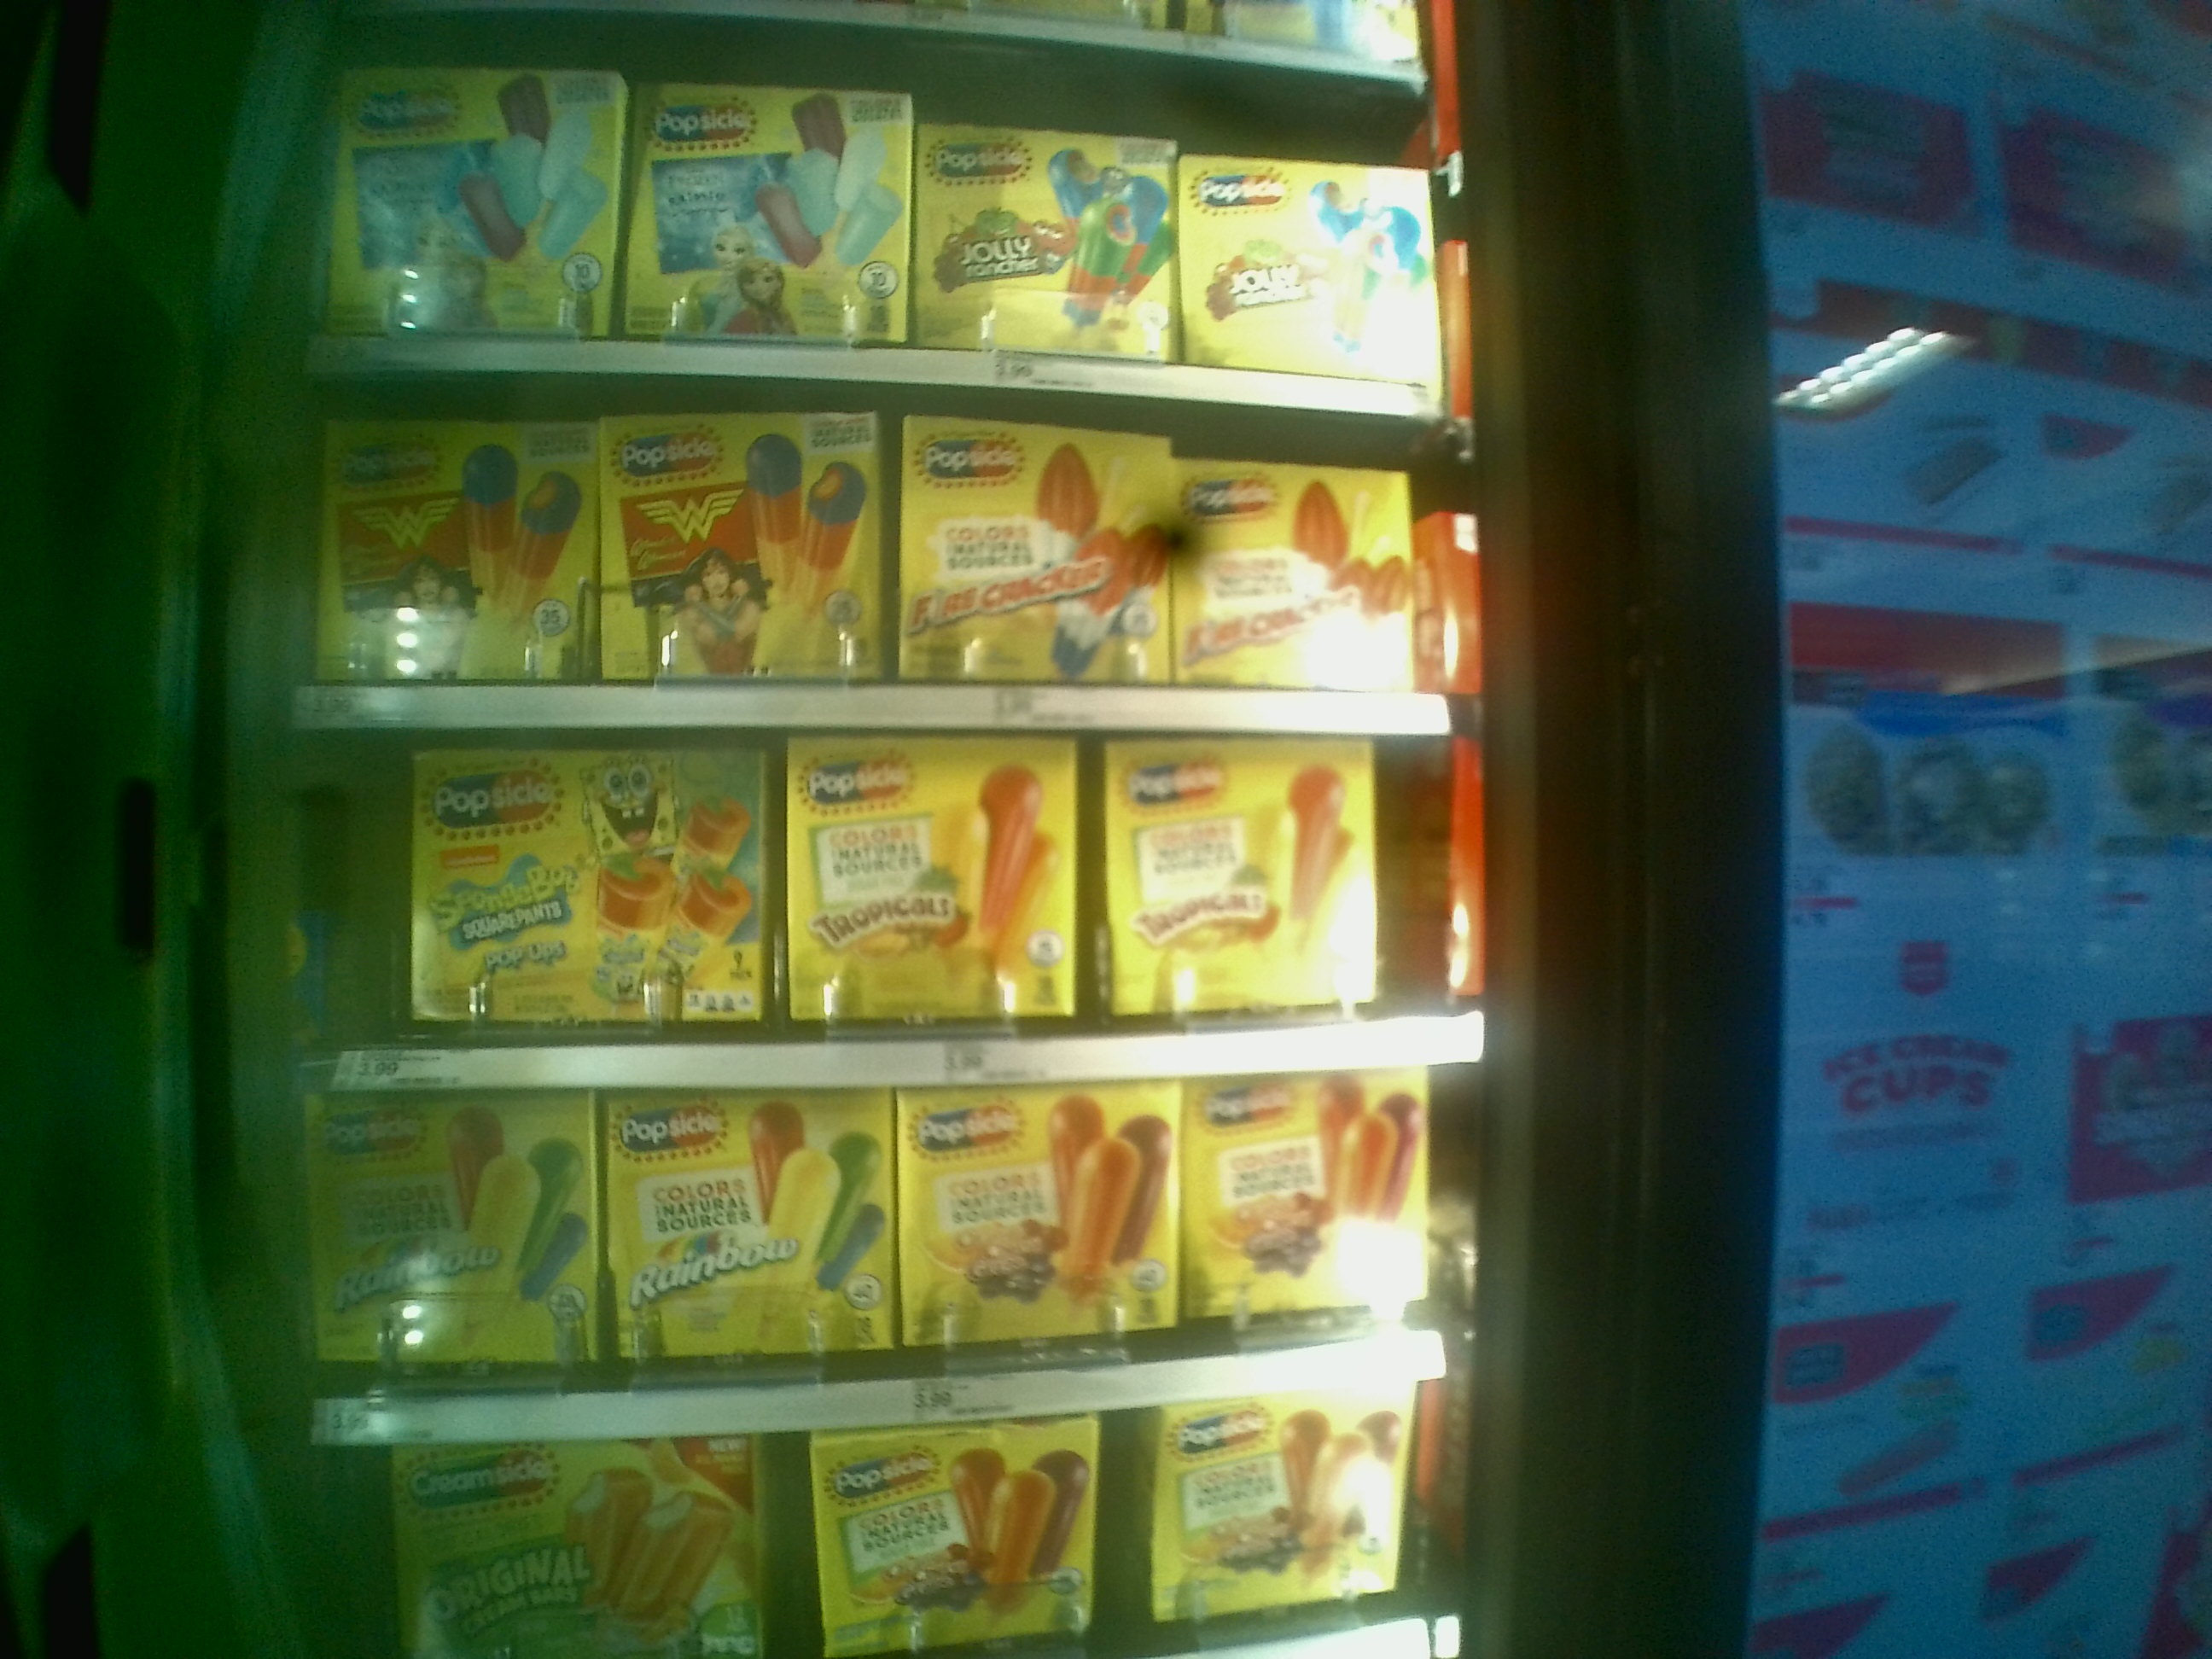shelf: (284, 721, 1470, 1091), (284, 1101, 1467, 1450), (282, 380, 1446, 732)
